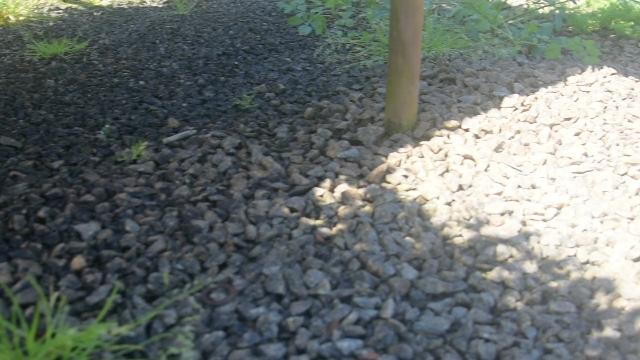MalezaMontesDelPlata: (0, 266, 210, 360), (468, 0, 609, 66), (279, 1, 390, 66), (11, 27, 106, 66), (421, 3, 467, 61), (562, 0, 640, 34), (0, 0, 61, 38)
